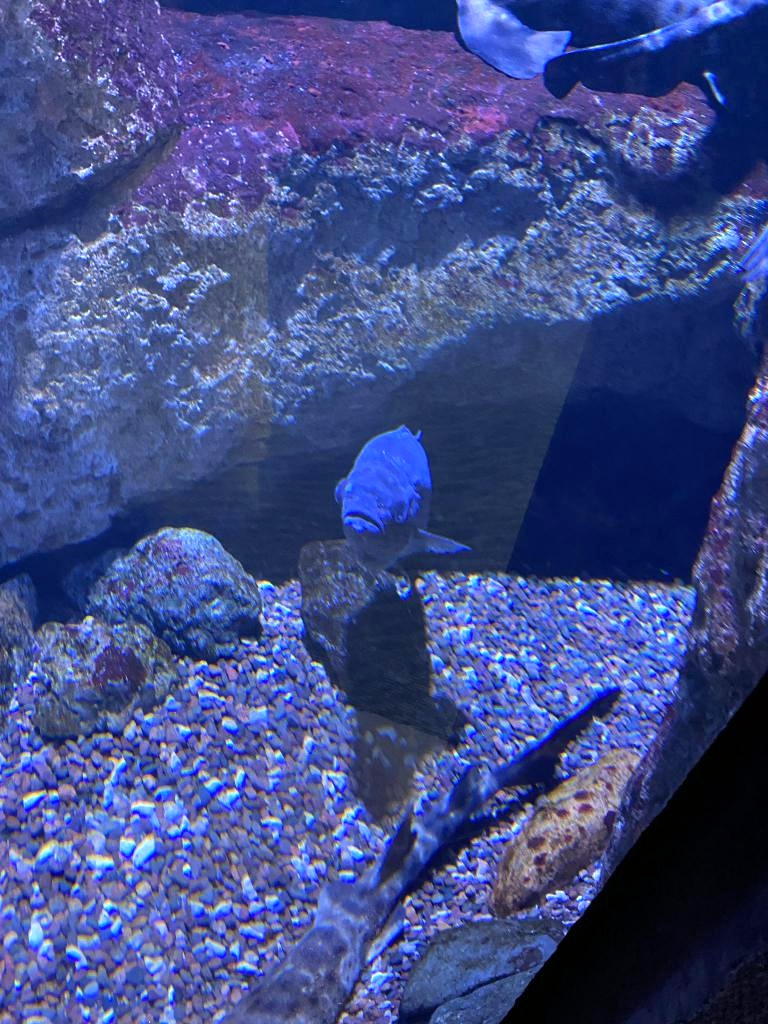fish: (339, 426, 469, 556)
shark: (216, 689, 616, 1023), (446, 0, 768, 106)
